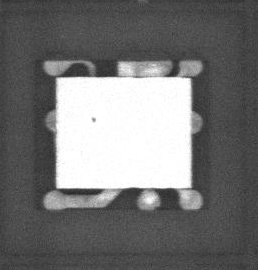DIE_INK: (85, 120, 93, 130)
